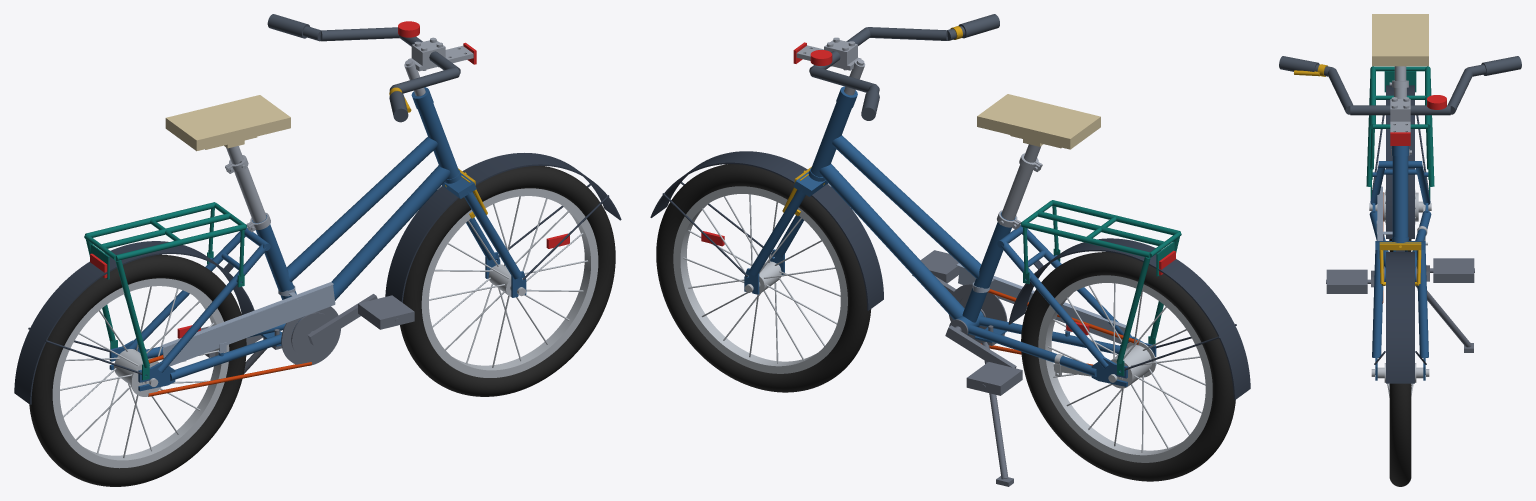
The picture shows the model from 3 angles, left to right: view 1: azimuth 30°, elevation 25°; view 2: azimuth 150°, elevation 25°; view 3: azimuth 270°, elevation 25°; orthographic projection. The views are drawn at different scales.
Visible parts, largest first — view 1: Solid tires, 20 x 1.95 in (2), Step-through chromoly frame, Fenders, Front wheel, 20 in, alloy rim, Rear wheel, alloy rim, coaster hub, Aluminium rear rack, 10 kg rated, Crankset, 32T, 140 mm, Saddle, Chainguard, Handlebar and grips, Fork, 1 in steerer, Telescoping seat post (sleeve and post) (+3 smaller); view 2: Solid tires, 20 x 1.95 in (2), Step-through chromoly frame, Fenders, Rear wheel, alloy rim, coaster hub, Front wheel, 20 in, alloy rim, Aluminium rear rack, 10 kg rated, Saddle, Crankset, 32T, 140 mm, Handlebar and grips, Fork, 1 in steerer, Chainguard, Telescoping seat post (sleeve and post) (+3 smaller); view 3: Fenders, Saddle, Handlebar and grips, Step-through chromoly frame, Fork, 1 in steerer, Aluminium rear rack, 10 kg rated, Solid tires, 20 x 1.95 in (2), Crankset, 32T, 140 mm, Front rim brake and lever, Telescoping quill stem, Reflectors and bell, Kickstand (+4 smaller).
Part boxes in pixels (x1,y1,x2,y2): Solid tires, 20 x 1.95 in (2): (29, 165, 615, 486); Step-through chromoly frame: (109, 104, 459, 391); Fenders: (14, 153, 621, 404); Front wheel, 20 in, alloy rim: (421, 188, 598, 377); Rear wheel, alloy rim, coaster hub: (52, 278, 229, 468); Aluminium rear rack, 10 kg rated: (84, 202, 246, 380); Crankset, 32T, 140 mm: (201, 294, 414, 365); Saddle: (165, 95, 290, 151); Chainguard: (161, 282, 335, 366); Handlebar and grips: (267, 14, 460, 122); Fork, 1 in steerer: (411, 87, 526, 297); Telescoping seat post (sleeve and post): (225, 146, 270, 232); Solid tires, 20 x 1.95 in (2): (656, 164, 1235, 481); Step-through chromoly frame: (810, 103, 1156, 386); Fenders: (650, 151, 1250, 400); Rear wheel, alloy rim, coaster hub: (1038, 275, 1212, 462); Front wheel, 20 in, alloy rim: (673, 186, 847, 373); Aluminium rear rack, 10 kg rated: (1020, 200, 1181, 376); Saddle: (977, 94, 1100, 149); Crankset, 32T, 140 mm: (912, 250, 1022, 395); Handlebar and grips: (809, 14, 999, 120); Fork, 1 in steerer: (744, 86, 857, 294); Chainguard: (956, 263, 1126, 343); Telescoping seat post (sleeve and post): (997, 144, 1042, 229); Fenders: (1372, 85, 1428, 383); Saddle: (1372, 14, 1428, 66); Handlebar and grips: (1279, 56, 1521, 115); Step-through chromoly frame: (1369, 156, 1431, 281); Fork, 1 in steerer: (1372, 146, 1428, 380); Aluminium rear rack, 10 kg rated: (1366, 66, 1434, 199); Solid tires, 20 x 1.95 in (2): (1389, 239, 1411, 486); Crankset, 32T, 140 mm: (1326, 258, 1474, 293); Front rim brake and lever: (1294, 64, 1421, 285); Telescoping quill stem: (1390, 97, 1410, 132); Reflectors and bell: (1390, 95, 1446, 145); Kickstand: (1415, 285, 1473, 352).
Bounding box in the file's own units: 1.38 × 0.8306 × 0.5324.
